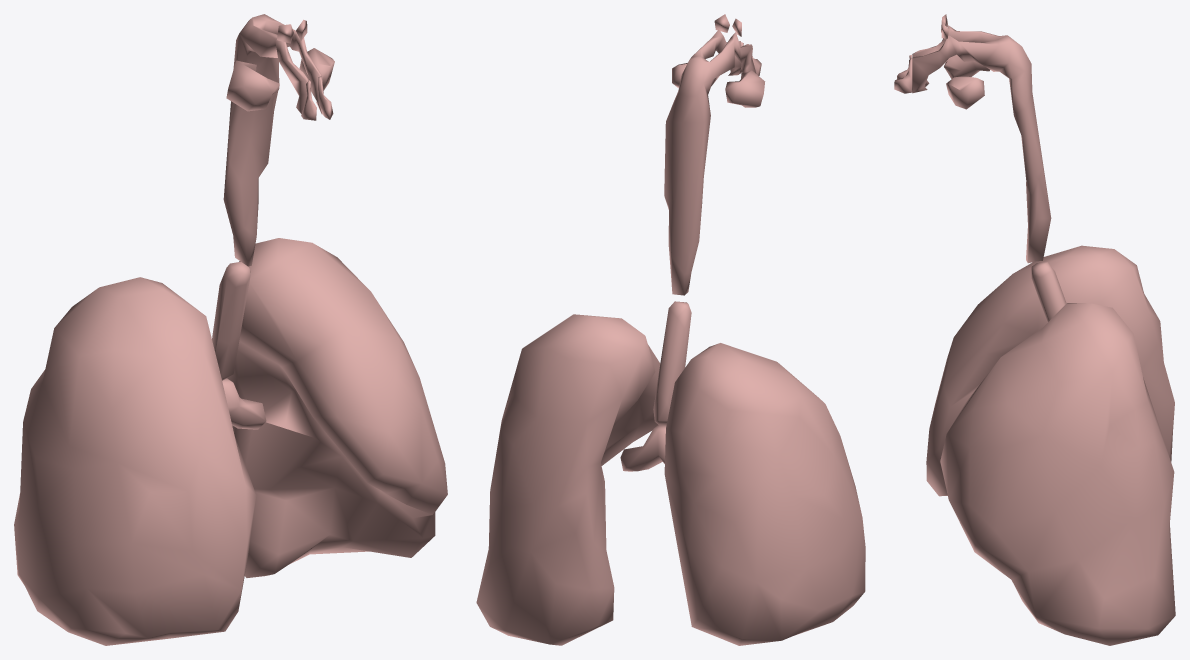
Rendered from pediatric_adolescent_female.respiratory.LOD3.glb.
The picture shows the model from 3 angles, left to right: view 1: azimuth 30°, elevation 25°; view 2: azimuth 150°, elevation 25°; view 3: azimuth 270°, elevation 25°; orthographic projection. The views are drawn at different scales.
Visible parts, largest first — view 1: PEDIATRIC.ADOLESCENT.FEMALE.RESPIRATORY.LUNG.R, PEDIATRIC.ADOLESCENT.FEMALE.RESPIRATORY.LUNG.L, PEDIATRIC.ADOLESCENT.FEMALE.RESPIRATORY.ET2, PEDIATRIC.ADOLESCENT.FEMALE.RESPIRATORY.TRACHEA, PEDIATRIC.ADOLESCENT.FEMALE.RESPIRATORY.BB1, PEDIATRIC.ADOLESCENT.FEMALE.RESPIRATORY.ET1; view 2: PEDIATRIC.ADOLESCENT.FEMALE.RESPIRATORY.LUNG.R, PEDIATRIC.ADOLESCENT.FEMALE.RESPIRATORY.LUNG.L, PEDIATRIC.ADOLESCENT.FEMALE.RESPIRATORY.ET2, PEDIATRIC.ADOLESCENT.FEMALE.RESPIRATORY.TRACHEA, PEDIATRIC.ADOLESCENT.FEMALE.RESPIRATORY.BB1; view 3: PEDIATRIC.ADOLESCENT.FEMALE.RESPIRATORY.LUNG.L, PEDIATRIC.ADOLESCENT.FEMALE.RESPIRATORY.LUNG.R, PEDIATRIC.ADOLESCENT.FEMALE.RESPIRATORY.ET2, PEDIATRIC.ADOLESCENT.FEMALE.RESPIRATORY.TRACHEA, PEDIATRIC.ADOLESCENT.FEMALE.RESPIRATORY.ET1.
Boxes of the visible parts, x1=… form: PEDIATRIC.ADOLESCENT.FEMALE.RESPIRATORY.LUNG.R: x1=14, y1=277, x2=256, y2=645; PEDIATRIC.ADOLESCENT.FEMALE.RESPIRATORY.LUNG.L: x1=227, y1=238, x2=447, y2=577; PEDIATRIC.ADOLESCENT.FEMALE.RESPIRATORY.ET2: x1=223, y1=14, x2=334, y2=266; PEDIATRIC.ADOLESCENT.FEMALE.RESPIRATORY.TRACHEA: x1=212, y1=261, x2=250, y2=380; PEDIATRIC.ADOLESCENT.FEMALE.RESPIRATORY.BB1: x1=222, y1=378, x2=266, y2=429; PEDIATRIC.ADOLESCENT.FEMALE.RESPIRATORY.ET1: x1=301, y1=75, x2=333, y2=120; PEDIATRIC.ADOLESCENT.FEMALE.RESPIRATORY.LUNG.R: x1=664, y1=343, x2=865, y2=645; PEDIATRIC.ADOLESCENT.FEMALE.RESPIRATORY.LUNG.L: x1=476, y1=314, x2=660, y2=645; PEDIATRIC.ADOLESCENT.FEMALE.RESPIRATORY.ET2: x1=664, y1=14, x2=765, y2=295; PEDIATRIC.ADOLESCENT.FEMALE.RESPIRATORY.TRACHEA: x1=653, y1=301, x2=691, y2=425; PEDIATRIC.ADOLESCENT.FEMALE.RESPIRATORY.BB1: x1=620, y1=425, x2=666, y2=471; PEDIATRIC.ADOLESCENT.FEMALE.RESPIRATORY.LUNG.L: x1=940, y1=303, x2=1175, y2=645; PEDIATRIC.ADOLESCENT.FEMALE.RESPIRATORY.LUNG.R: x1=926, y1=245, x2=1174, y2=496; PEDIATRIC.ADOLESCENT.FEMALE.RESPIRATORY.ET2: x1=912, y1=14, x2=1051, y2=263; PEDIATRIC.ADOLESCENT.FEMALE.RESPIRATORY.TRACHEA: x1=1031, y1=262, x2=1066, y2=322; PEDIATRIC.ADOLESCENT.FEMALE.RESPIRATORY.ET1: x1=894, y1=55, x2=912, y2=93.
Bounding box in the file's own units: 0.2361 × 0.377 × 0.1709.
